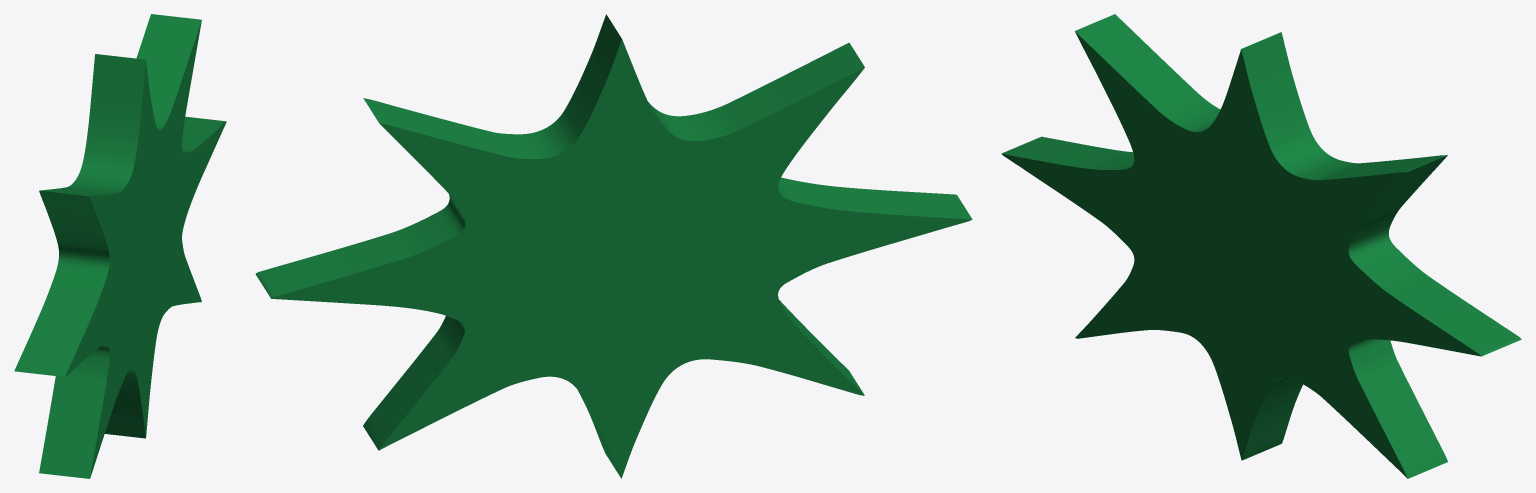
File: Star Burst Nexgen.gltf
3 views of the same model, side by side, from view 1: azimuth 30°, elevation 25°; view 2: azimuth 150°, elevation 25°; view 3: azimuth 270°, elevation 25° (orthographic). The views are drawn at different scales.
Bounding box in the file's own units: 76.65 × 66.86 × 76.65.
